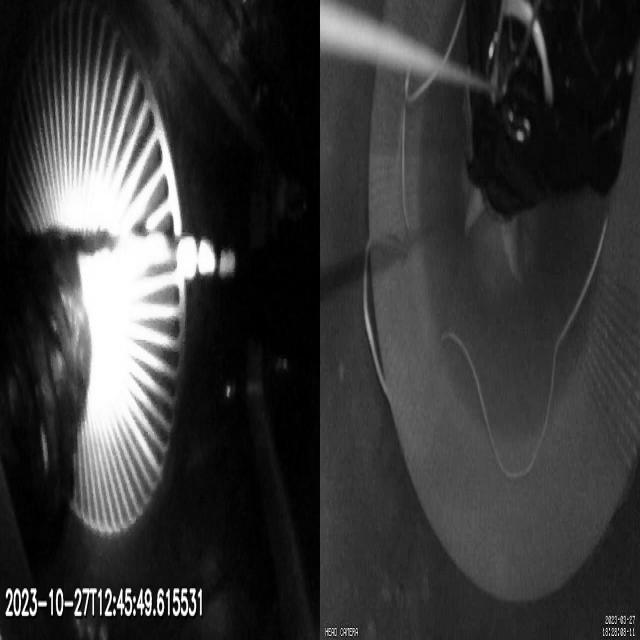white-dots: (176, 238, 234, 280)
